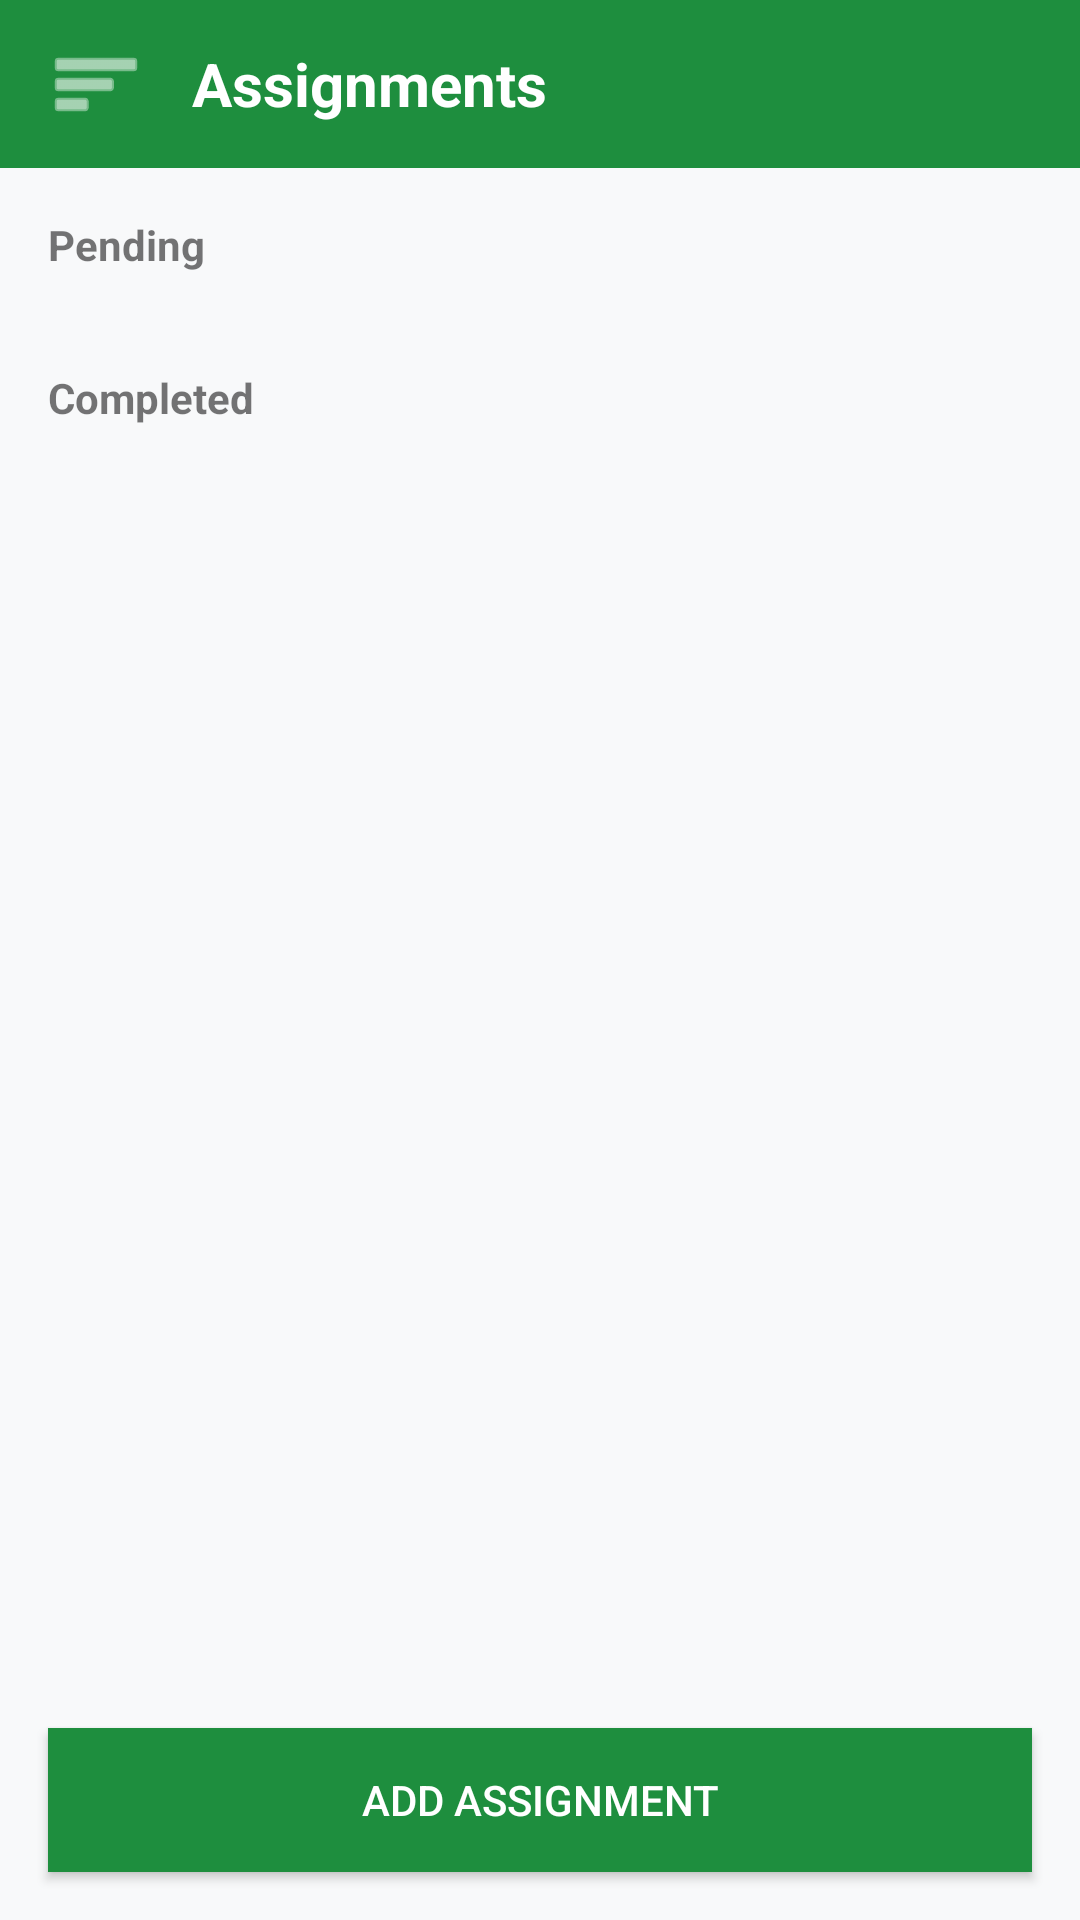

Screen size 1080px x 1920px. Icon name, then its center in pixels as [x,y]:
Open Menu: [96,84]
